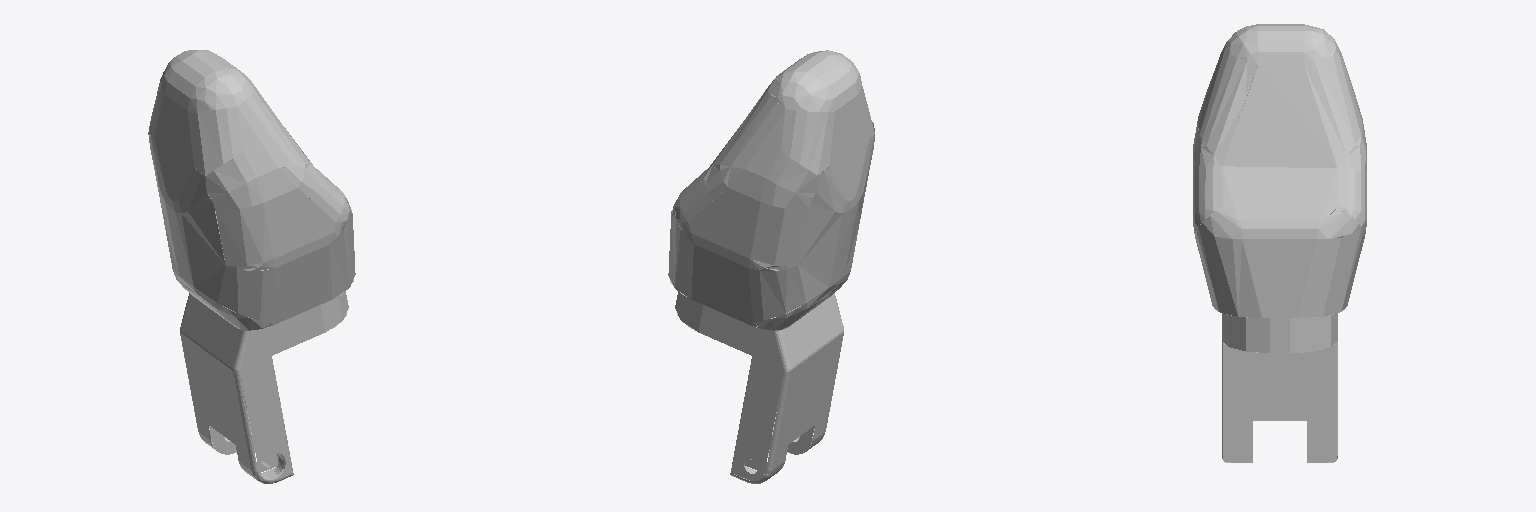
The model's file is handr_finger_thumb3_joint.obj.
The picture shows the model from 3 angles: view 1: azimuth 30°, elevation 25°; view 2: azimuth 150°, elevation 25°; view 3: azimuth 270°, elevation 25°; orthographic projection.
Bounding box in the file's own units: 0.0201 × 0.0471 × 0.018.